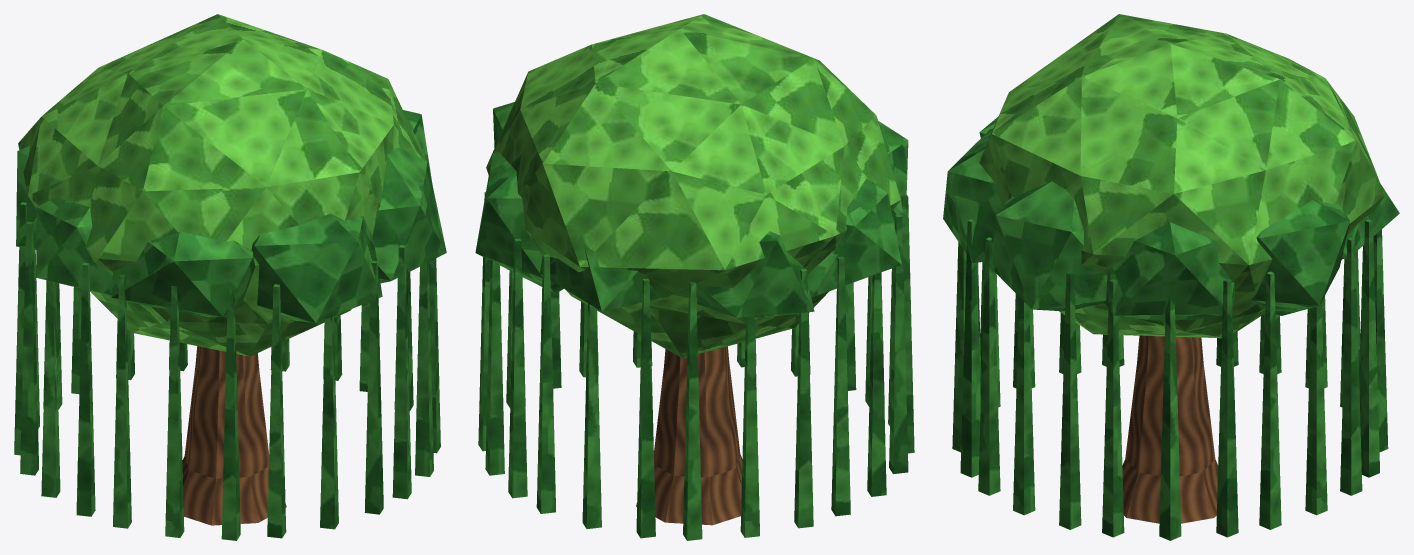
The model's file is tree_willow.glb.
The picture shows the model from 3 angles, left to right: view 1: azimuth 30°, elevation 25°; view 2: azimuth 150°, elevation 25°; view 3: azimuth 270°, elevation 25°; orthographic projection. The views are drawn at different scales.
Visible parts, largest first — view 1: tree_willow; view 2: tree_willow; view 3: tree_willow.
Boxes of the visible parts, <box> form: tree_willow: <box>14,14,446,540</box>; tree_willow: <box>475,14,914,540</box>; tree_willow: <box>943,14,1399,540</box>.
Size of the model in its own units: 2.89 by 3.21 by 2.87.
3 materials, 3 textured.
